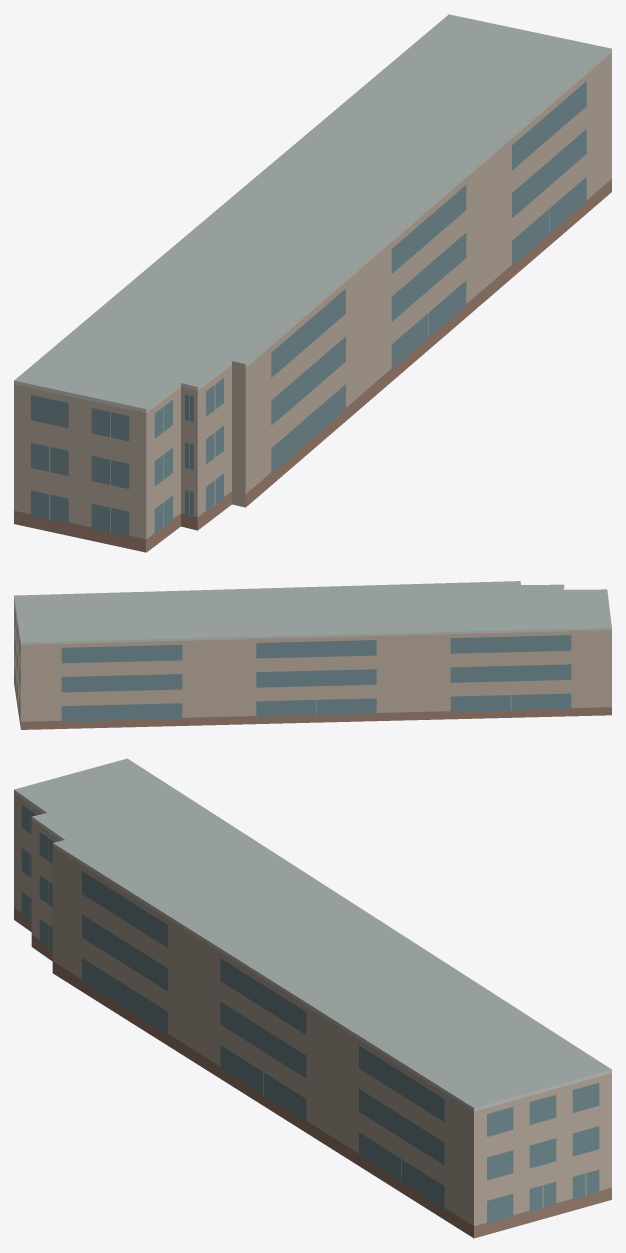
File: survey-upis-32764195.glb
The picture shows the model from 3 angles, top to bottom: view 1: azimuth 30°, elevation 25°; view 2: azimuth 150°, elevation 25°; view 3: azimuth 270°, elevation 25°; orthographic projection. The views are drawn at different scales.
Parts seen in each view (by area): view 1: survey-upis-32764195.tmp; view 2: survey-upis-32764195.tmp; view 3: survey-upis-32764195.tmp.
Part boxes in pixels (box(x1,y1,x2,y2)): survey-upis-32764195.tmp: box(14, 14, 611, 552); survey-upis-32764195.tmp: box(14, 581, 611, 729); survey-upis-32764195.tmp: box(14, 758, 611, 1238).
Bounding box in the file's own units: 52.66 × 9.15 × 38.06.
